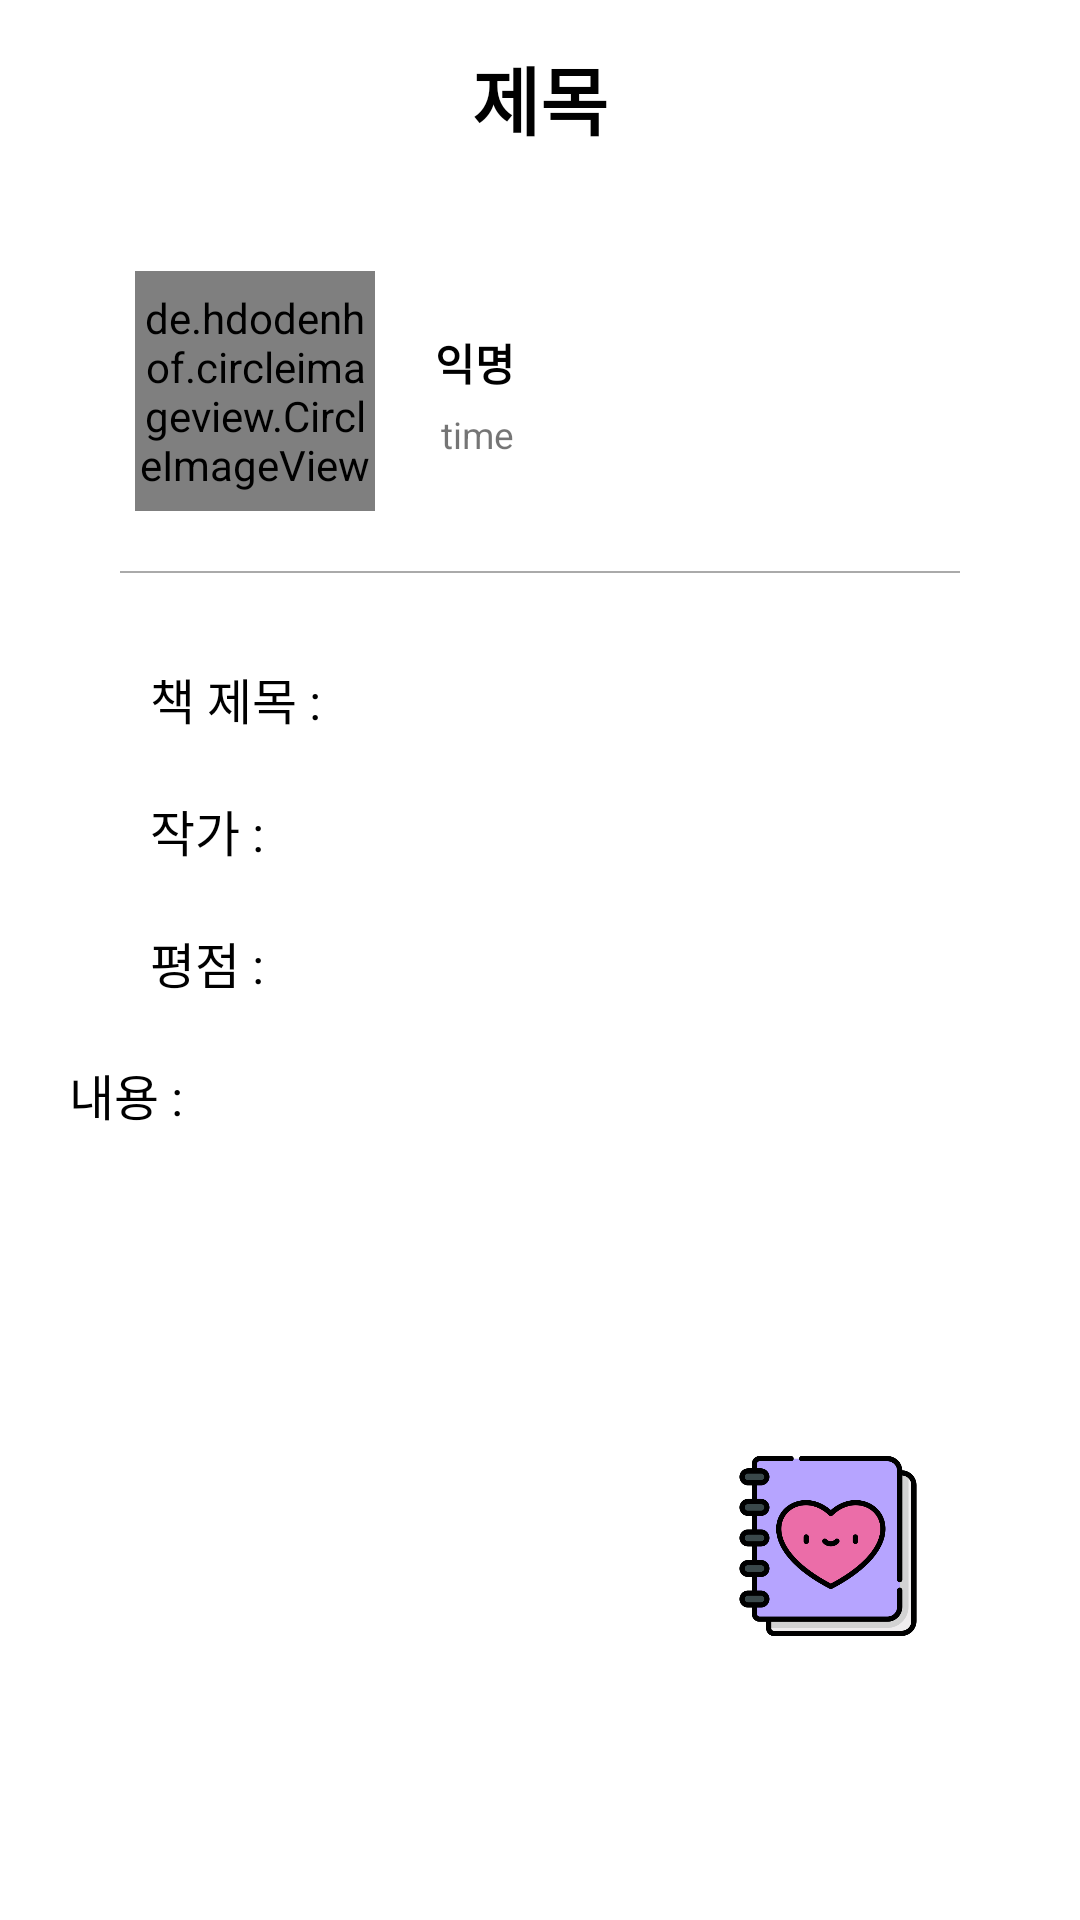

Icons on this 1080w x 1920h Android screen, each with the point to tap as [x,y]:
notebook: [828,1546]
